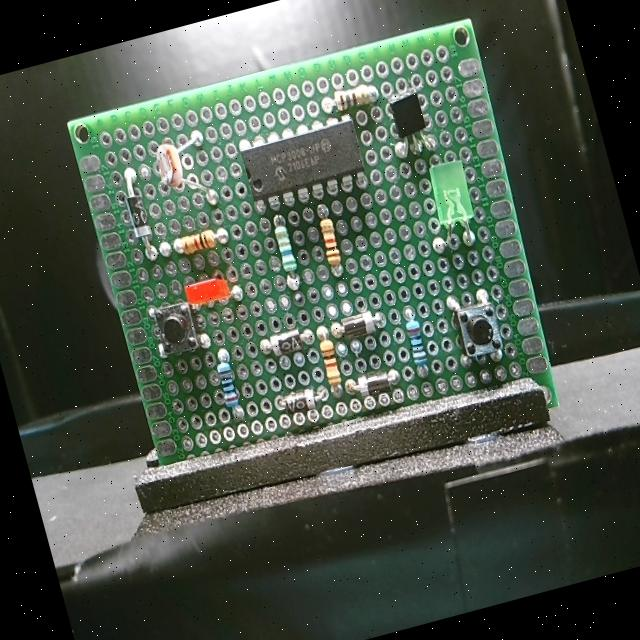IC: (238, 114, 370, 208)
cds: (148, 134, 189, 194)
diode: (120, 186, 154, 244), (334, 305, 380, 344), (266, 325, 310, 361), (354, 366, 394, 401), (284, 387, 321, 417)
led: (423, 152, 481, 233), (182, 268, 236, 313)
resistor: (400, 308, 432, 370), (272, 220, 302, 280), (212, 353, 242, 409), (328, 80, 374, 115), (317, 334, 346, 388), (315, 214, 344, 266), (175, 227, 221, 258)
switch: (451, 294, 506, 362), (148, 296, 200, 358)
transistor: (384, 87, 433, 146)
